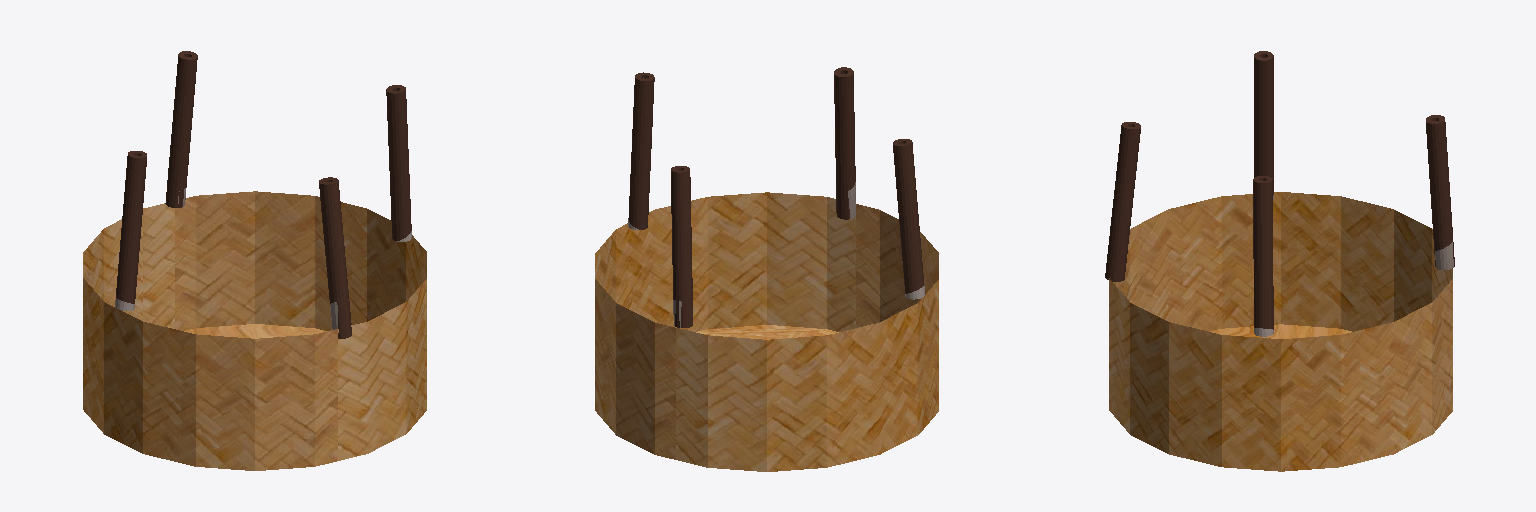
The picture shows the model from 3 angles: view 1: azimuth 30°, elevation 25°; view 2: azimuth 150°, elevation 25°; view 3: azimuth 270°, elevation 25°; orthographic projection.
Visible parts, largest first — view 1: Cylinder001; view 2: Cylinder001; view 3: Cylinder001.
Boxes of the visible parts, x1=… form: Cylinder001: x1=83, y1=51, x2=426, y2=470; Cylinder001: x1=595, y1=67, x2=938, y2=471; Cylinder001: x1=1105, y1=51, x2=1454, y2=471.
Bounding box in the file's own units: 2.65 × 2.38 × 2.65.
Materials: 2 (2 with a texture image).